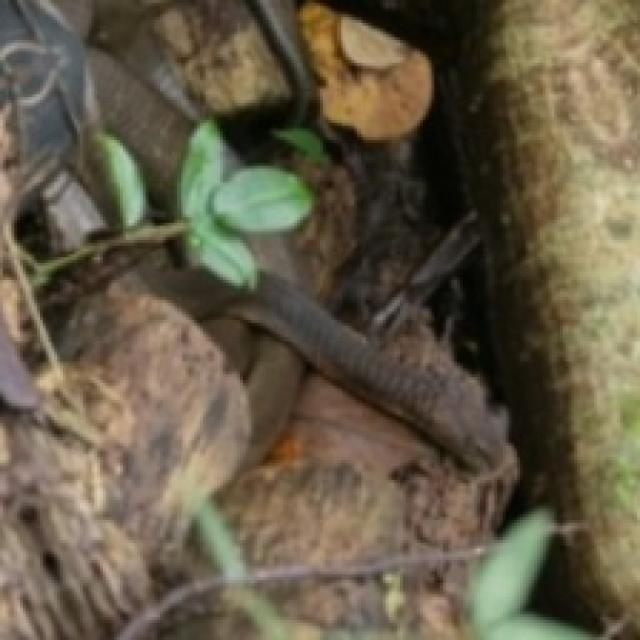king cobra: (0, 0, 509, 466), (240, 120, 354, 280), (314, 180, 334, 217)
